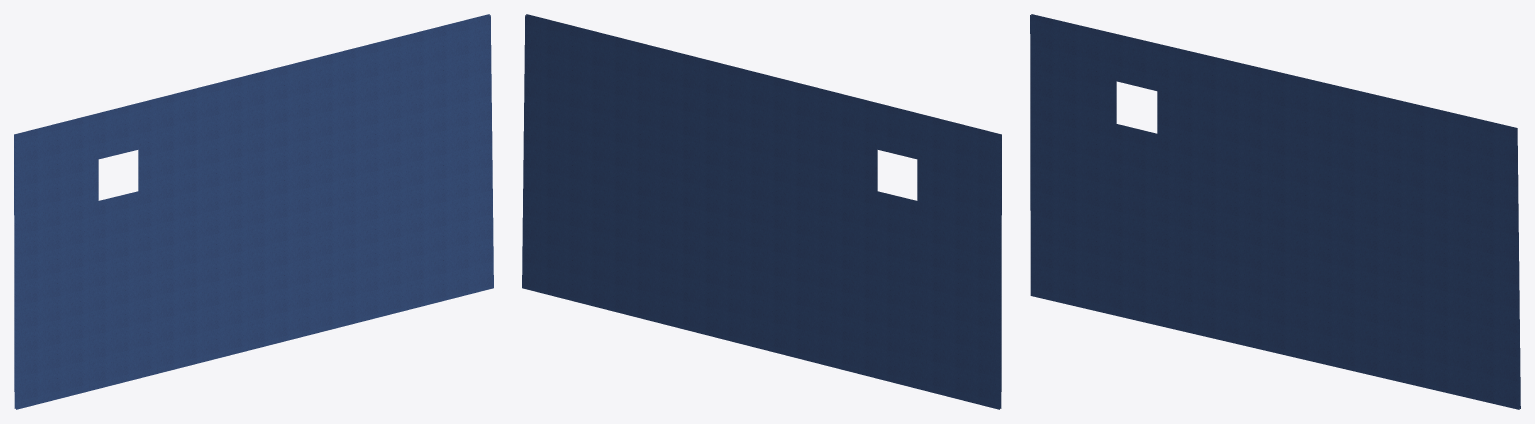
The model's file is floor_1.obj.
The picture shows the model from 3 angles, left to right: view 1: azimuth 30°, elevation 25°; view 2: azimuth 150°, elevation 25°; view 3: azimuth 330°, elevation 25°; orthographic projection. The views are drawn at different scales.
Visible parts, largest first — view 1: floor_1; view 2: floor_1; view 3: floor_1.
Boxes of the visible parts, x1,y1,x2,y2 form: floor_1: [14, 14, 493, 409]; floor_1: [522, 14, 1001, 409]; floor_1: [1030, 14, 1520, 409].
Size of the model in its own units: 21.08 by 11.75 by 0.1.
